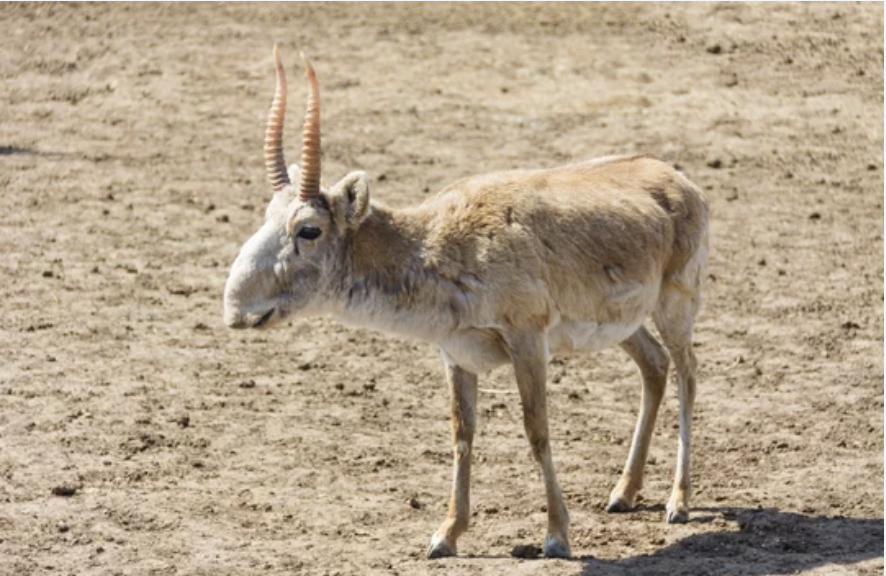saiga: (220, 33, 700, 537)
